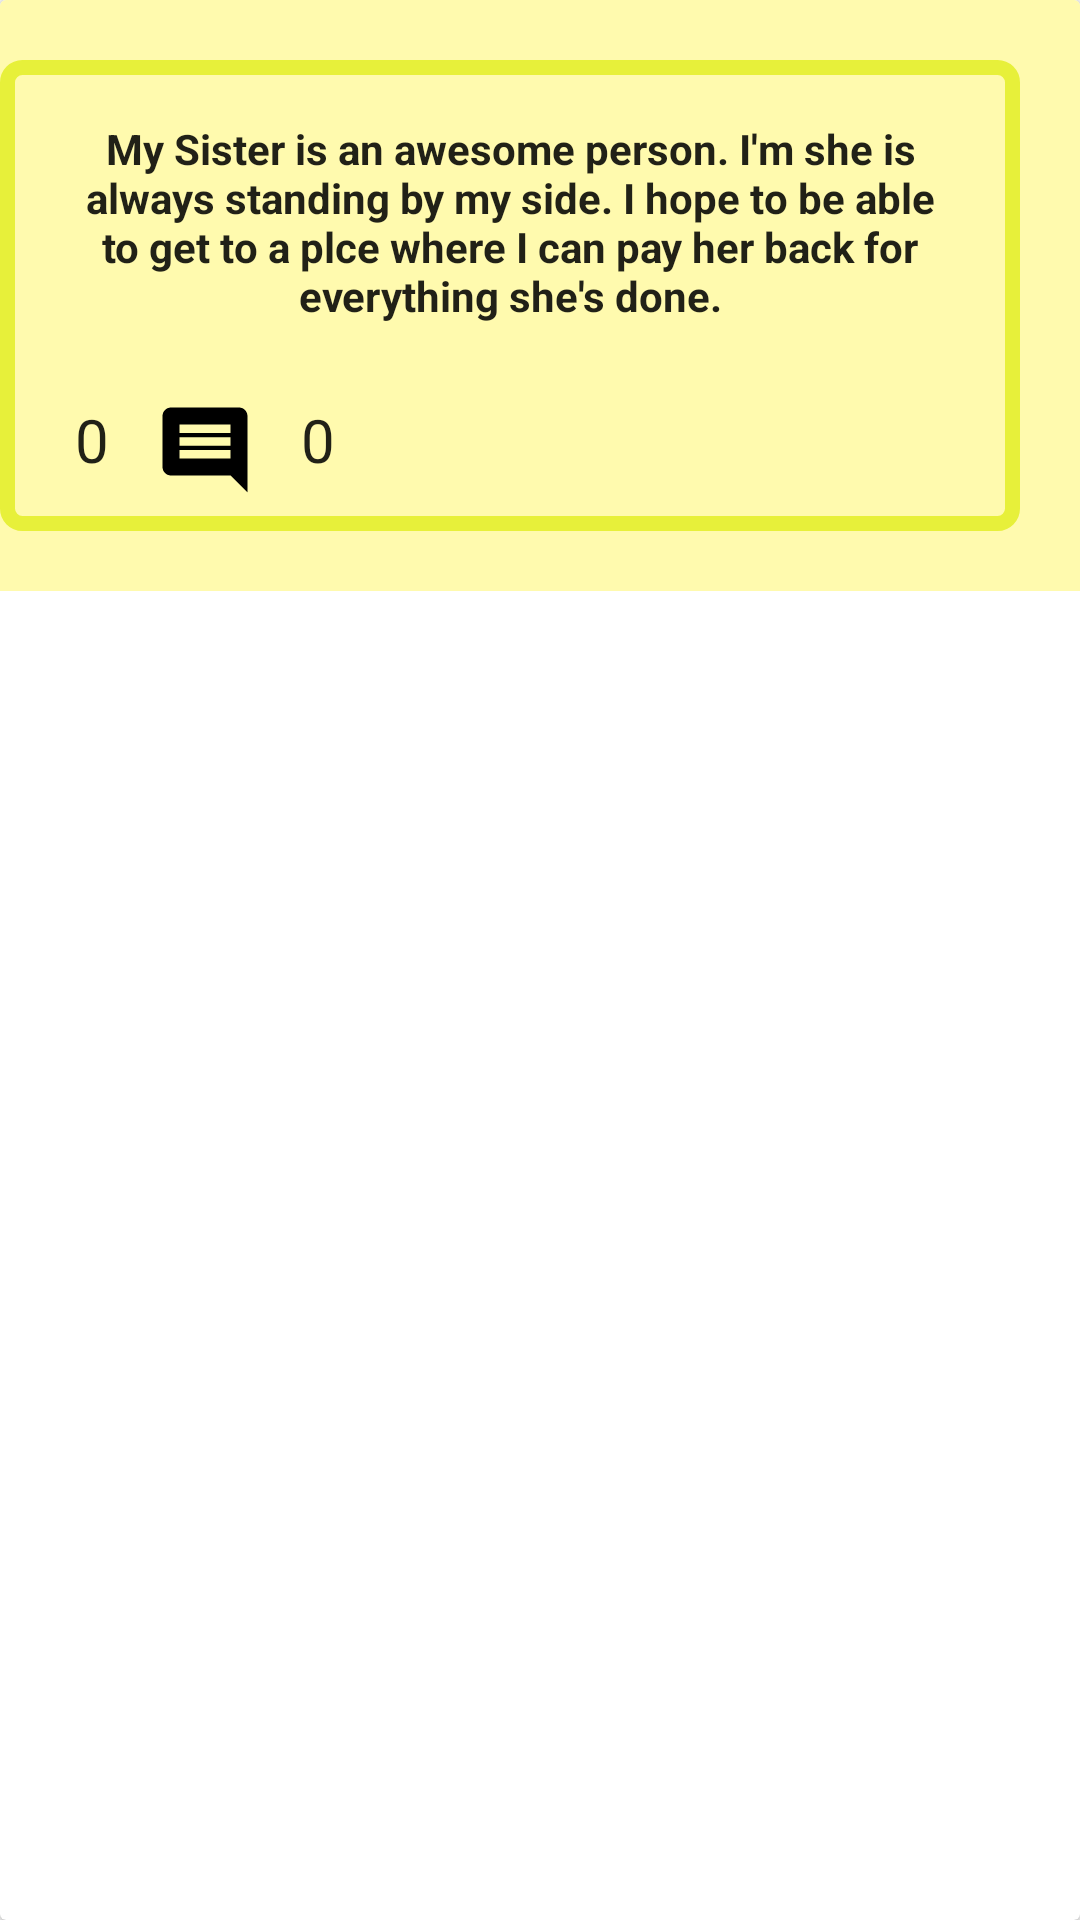

Screen size 1080px×1920px. Icon name, then its box in pixels as (x1, y1, x2, y2):
comment: (162, 407, 248, 492)
